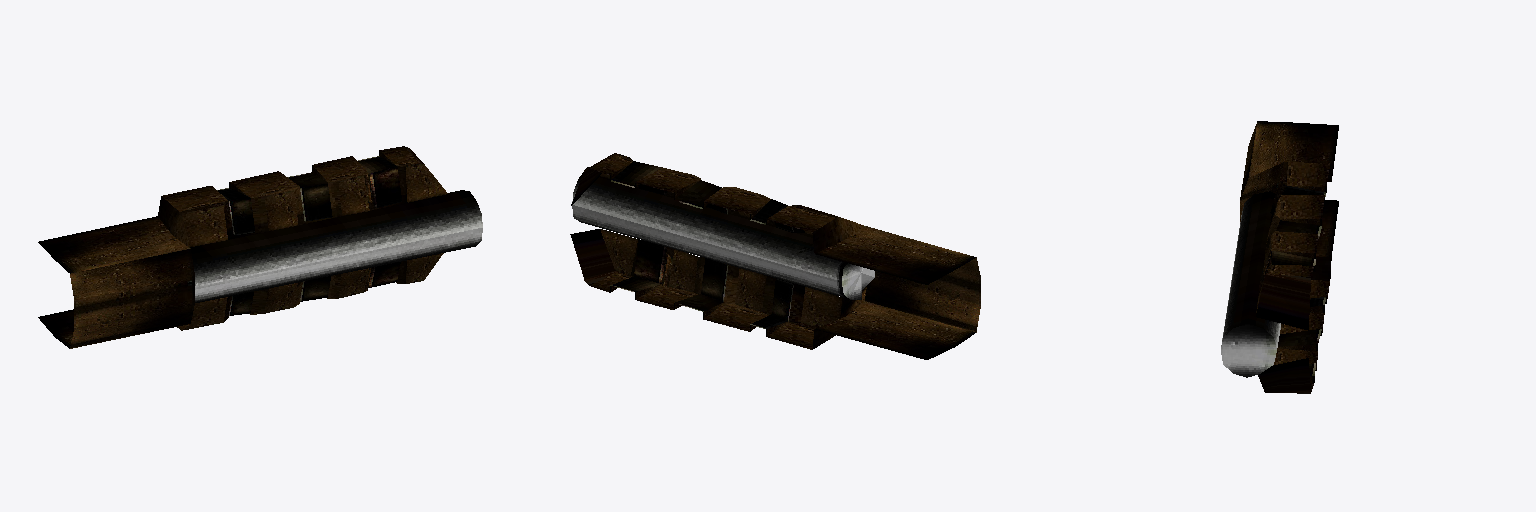
3 renders of one model, left to right at view 1: azimuth 30°, elevation 25°; view 2: azimuth 150°, elevation 25°; view 3: azimuth 270°, elevation 25°, orthographic.
Bounding box in the file's own units: 13.76 × 3.91 × 3.58.
Materials: 1 (1 with a texture image).